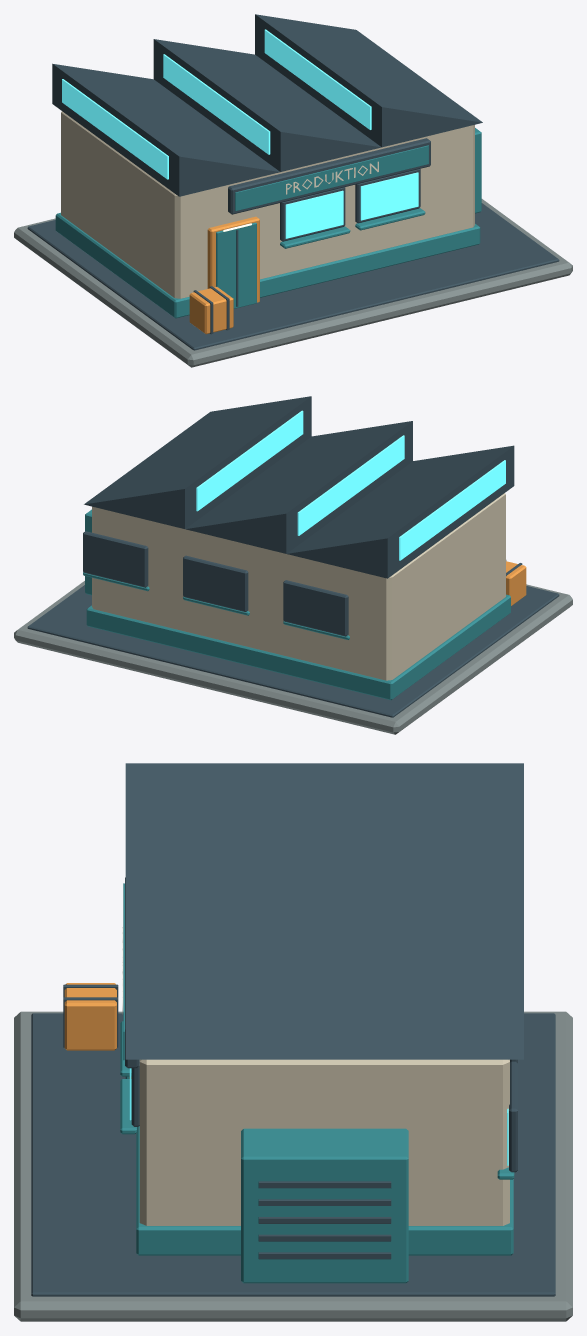
File: hall.glb
3 renders of one model, top to bottom at view 1: azimuth 30°, elevation 25°; view 2: azimuth 150°, elevation 25°; view 3: azimuth 270°, elevation 25°, orthographic. The views are drawn at different scales.
Parts seen in each view (by area): view 1: hall; view 2: hall; view 3: hall.
Part boxes in pixels (<box>): hall: <box>14,14,572,367</box>; hall: <box>14,396,572,734</box>; hall: <box>14,763,572,1321</box>.
Bounding box in the file's own units: 10 × 4.5 × 8.
